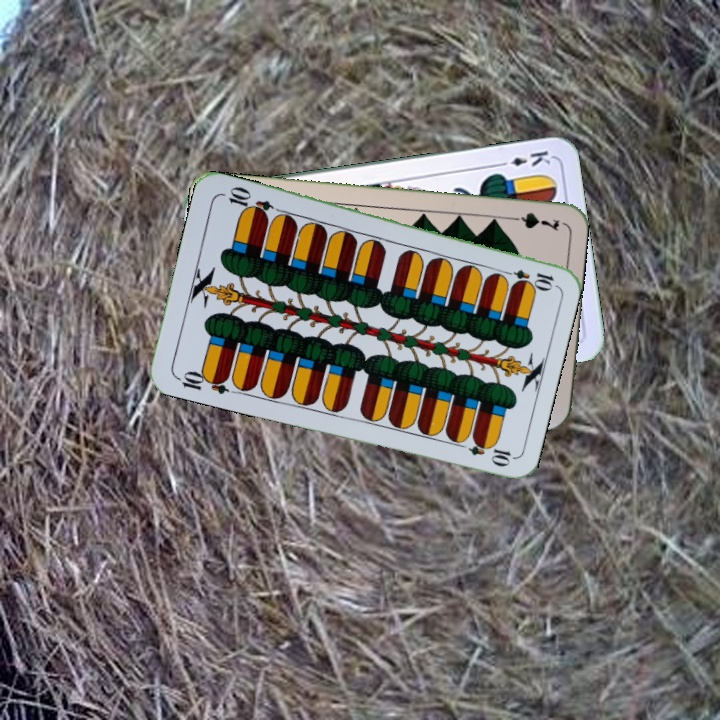E10: (172, 367, 231, 397), (497, 265, 556, 290)
EK: (494, 146, 553, 169)
G7: (503, 208, 562, 234)
